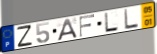5: (35, 21, 50, 44)
A: (56, 18, 78, 42)
F: (78, 14, 96, 38)
L: (123, 8, 140, 31), (104, 11, 120, 33)
Z: (16, 24, 34, 49)
